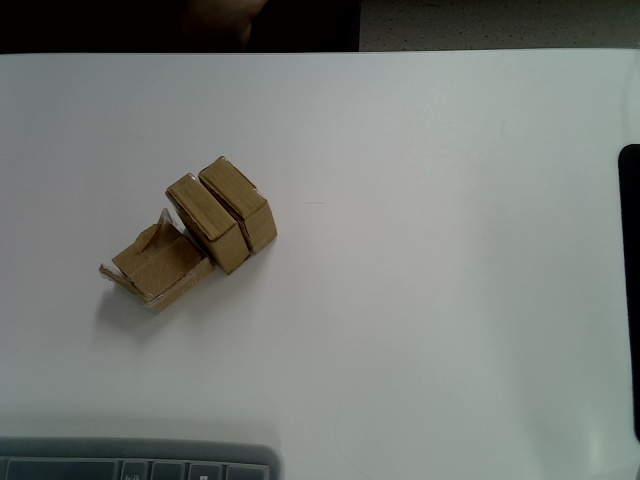defect: (98, 211, 215, 315)
normal: (165, 171, 252, 275), (199, 156, 280, 255)
